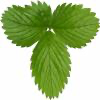Strawberry leaf: (29, 30, 73, 99), (0, 0, 51, 49), (52, 3, 99, 49)
